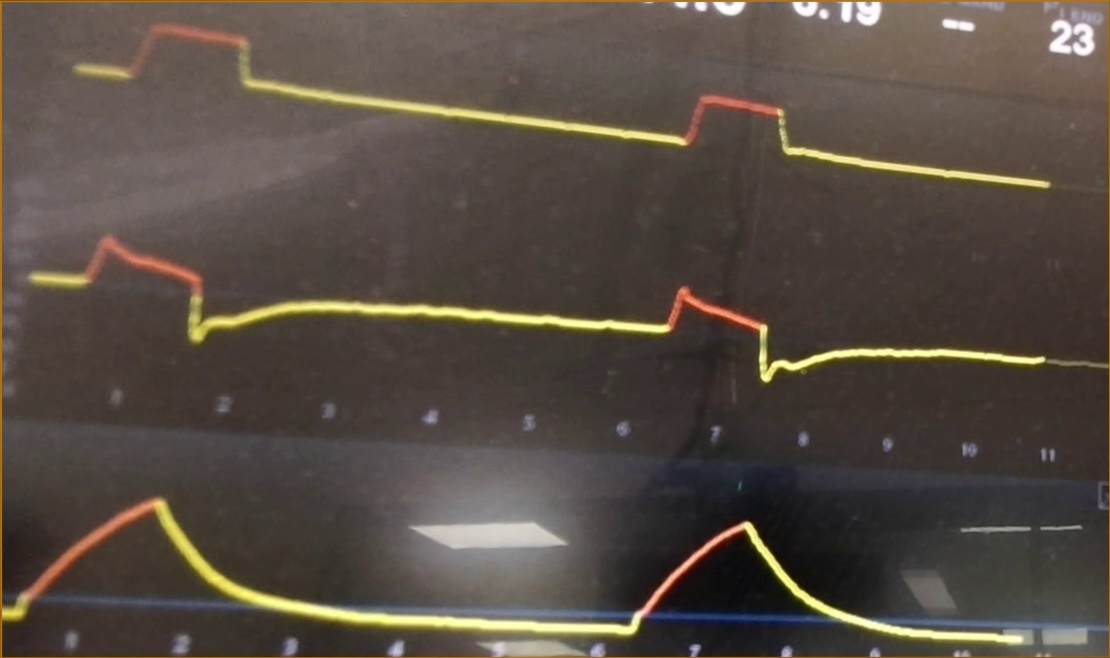Premature_cycling Flow: (27, 226, 1046, 392)
Premature_cycling Volume: (1, 470, 1022, 647)
